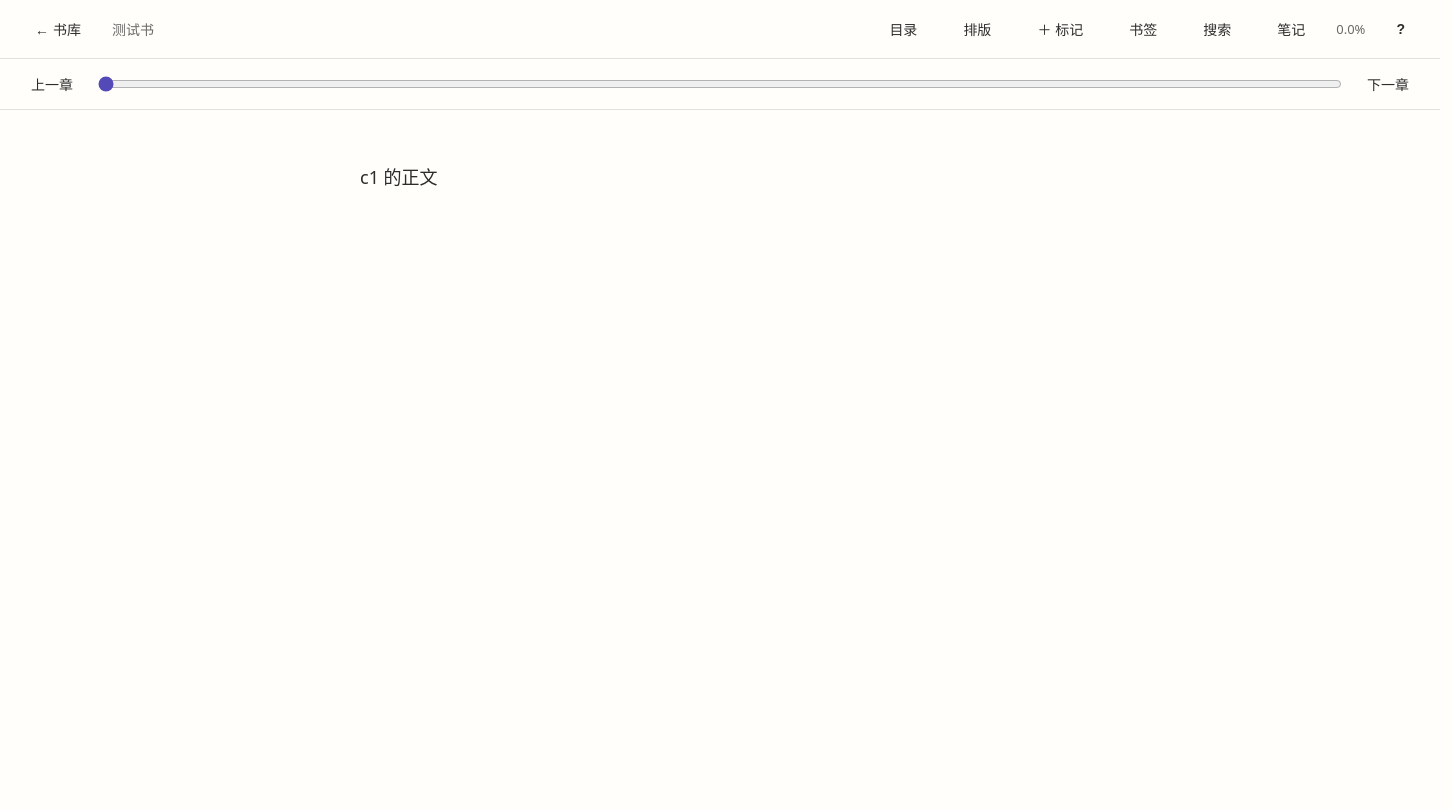
Test case: 阅读器 › 触屏手势（点按翻屏 / 滑动翻屏 / 点中间收起顶栏） › 侧栏开着时，点正文只关侧栏、不翻页
The width and height of the screenshot is (1452, 810).
Expected: the text "c1 的正文" is shown, [360,165,438,189]
Click the button "目录": (903, 29) [874,10,932,48]
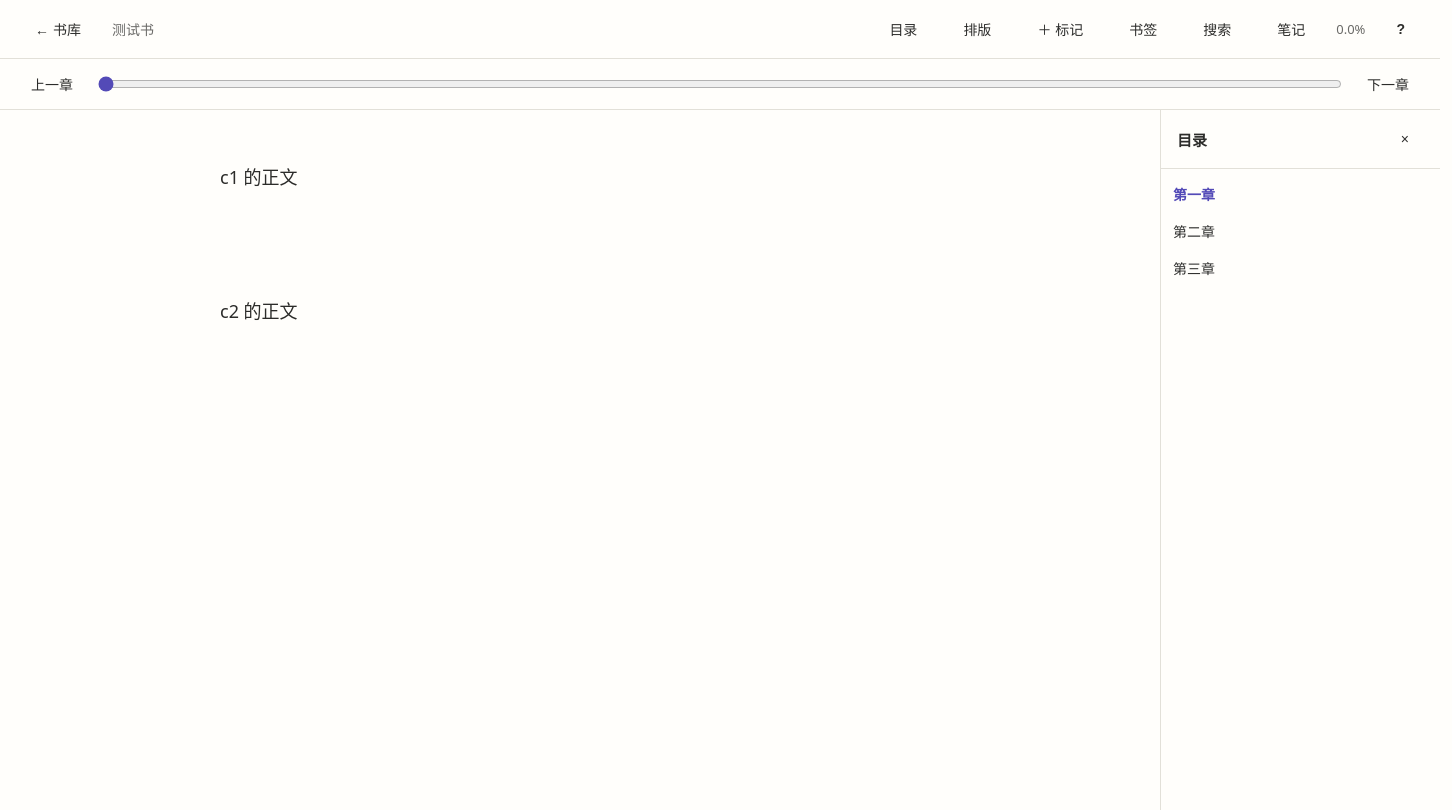
Result: the element with class "toc-panel" is shown at [1160,110,1440,809]
Press the mouse on the element with class "reader-scroll": (580, 460) [0,110,1160,809]
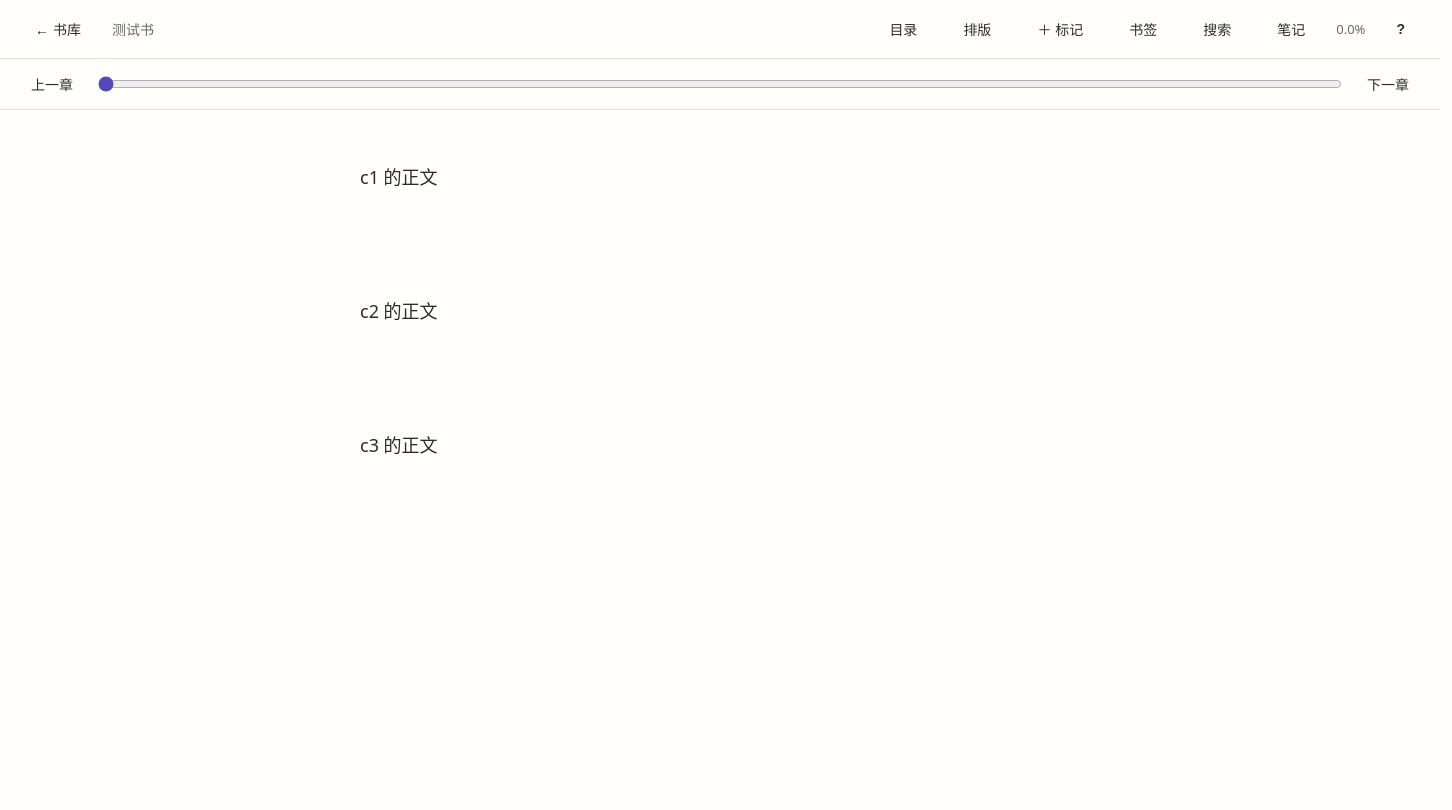
Result: the element with class "toc-panel" is gone
